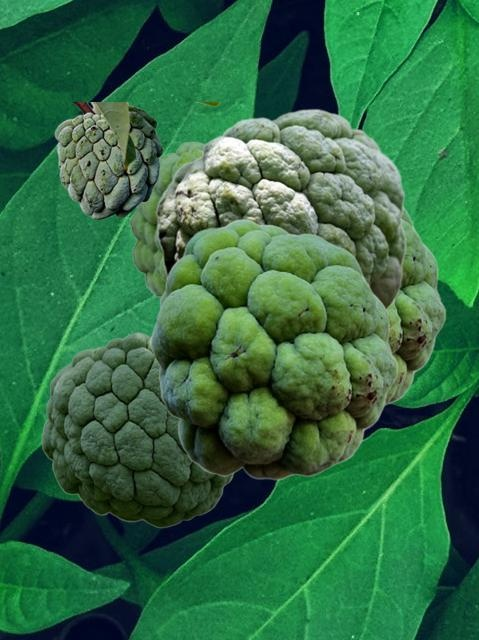atis: (150, 218, 397, 480), (155, 108, 406, 310), (41, 332, 234, 527), (54, 102, 219, 219), (129, 141, 205, 303), (385, 206, 445, 408)
